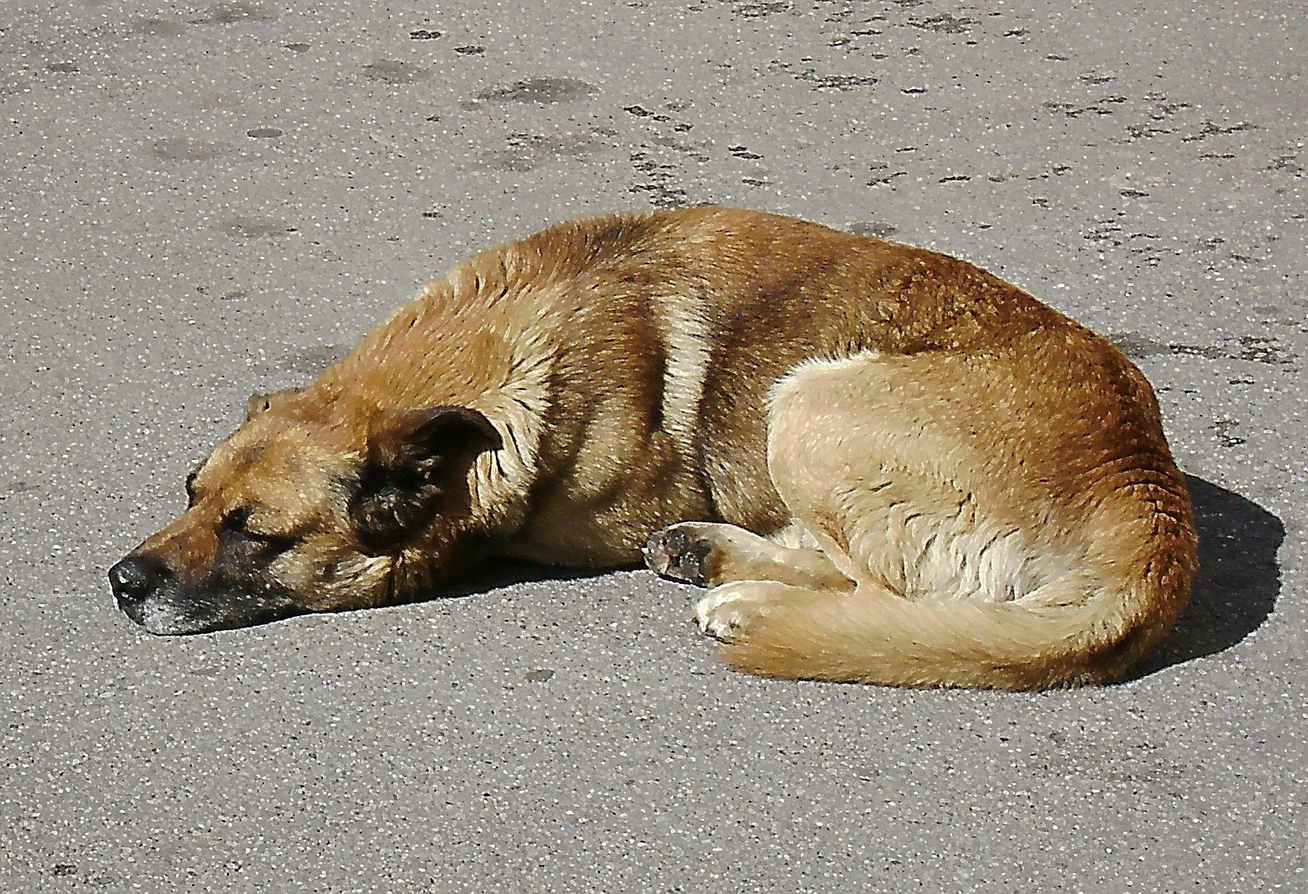adult_dog: (105, 202, 1204, 697)
